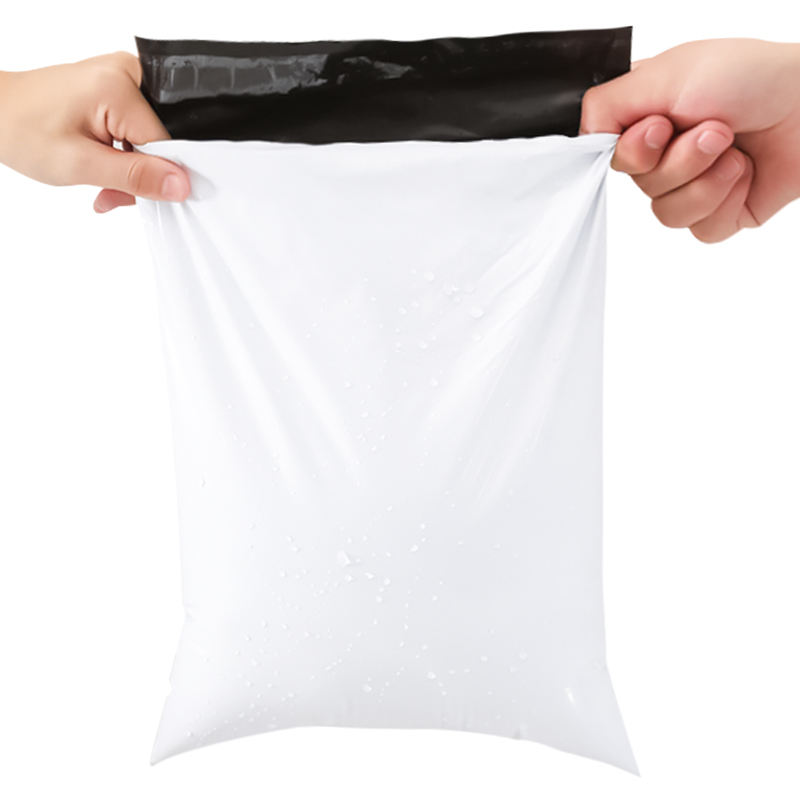Parcel: (136, 29, 631, 768)
